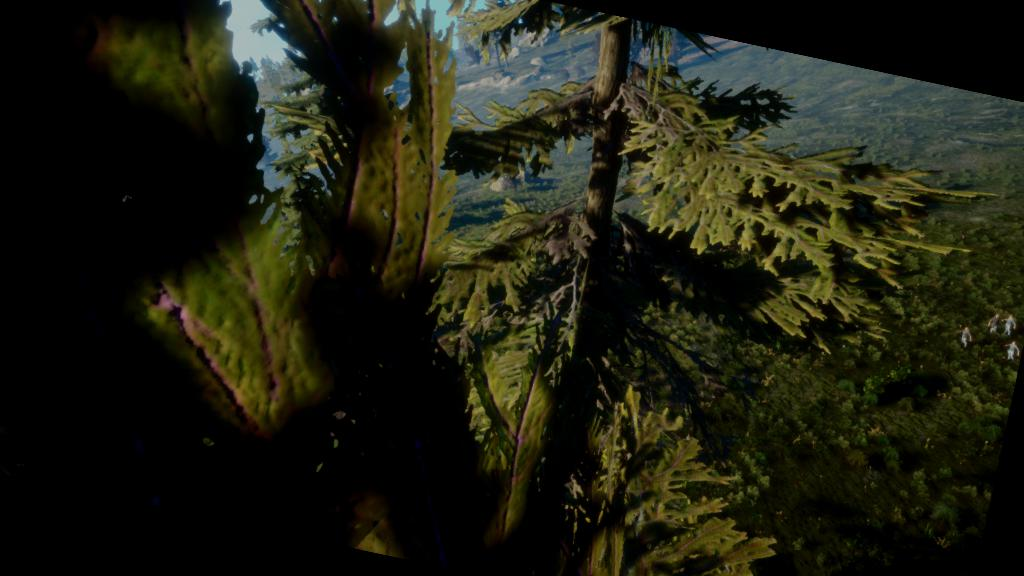human: (947, 322, 976, 354), (996, 310, 1021, 342), (997, 338, 1023, 367), (982, 308, 1005, 338)
